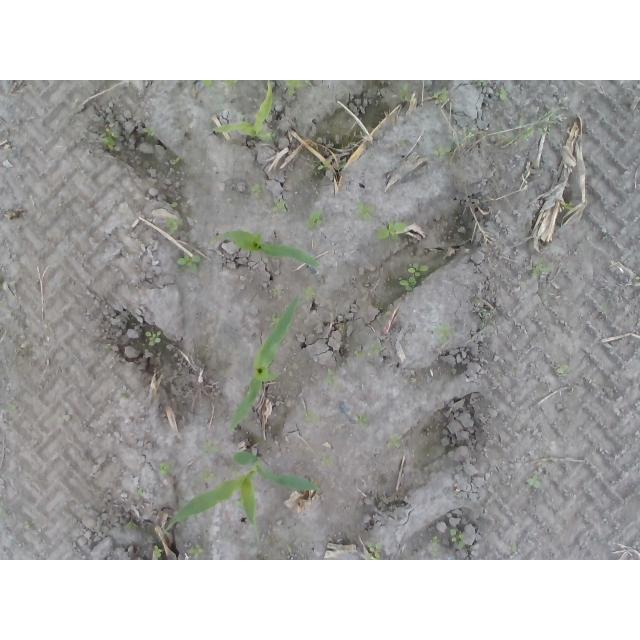Maize: (164, 448, 322, 534), (229, 296, 300, 432), (212, 229, 320, 269), (212, 81, 273, 144)
Weeds: (397, 263, 429, 293), (375, 219, 409, 242), (520, 116, 549, 140), (284, 80, 321, 96), (98, 127, 121, 152), (433, 324, 460, 345), (531, 256, 553, 280), (176, 255, 201, 274), (163, 217, 186, 236), (143, 330, 162, 352), (192, 470, 218, 486), (356, 200, 374, 220), (447, 527, 465, 546), (305, 212, 321, 232), (303, 408, 321, 425), (368, 542, 385, 560), (313, 159, 332, 175), (432, 145, 452, 160), (272, 198, 288, 216), (385, 431, 401, 449), (478, 308, 491, 329), (432, 87, 449, 103), (322, 367, 337, 385), (202, 440, 222, 453), (527, 475, 544, 490), (186, 546, 206, 558), (555, 363, 571, 378), (266, 312, 280, 329), (432, 536, 441, 561), (495, 87, 508, 104), (400, 82, 411, 102), (158, 463, 172, 478), (462, 127, 478, 140), (252, 182, 265, 198), (152, 544, 164, 561), (168, 193, 181, 208), (558, 201, 574, 213), (368, 343, 384, 355), (356, 414, 369, 427), (304, 288, 317, 301), (200, 80, 216, 90), (498, 136, 514, 145), (319, 455, 333, 465), (223, 80, 238, 89), (0, 504, 8, 520), (125, 520, 139, 529), (354, 349, 366, 359), (271, 287, 282, 297), (511, 543, 521, 554), (272, 130, 280, 143), (145, 128, 156, 137), (223, 111, 241, 116), (7, 404, 17, 413), (286, 543, 295, 553), (400, 135, 409, 145), (136, 487, 145, 497), (24, 520, 33, 529), (234, 500, 243, 509), (170, 157, 180, 165), (474, 80, 487, 86), (438, 257, 446, 266), (338, 158, 347, 166), (120, 392, 128, 401), (207, 115, 213, 126), (601, 303, 609, 310), (456, 143, 464, 149), (631, 320, 637, 326), (363, 157, 370, 160)
